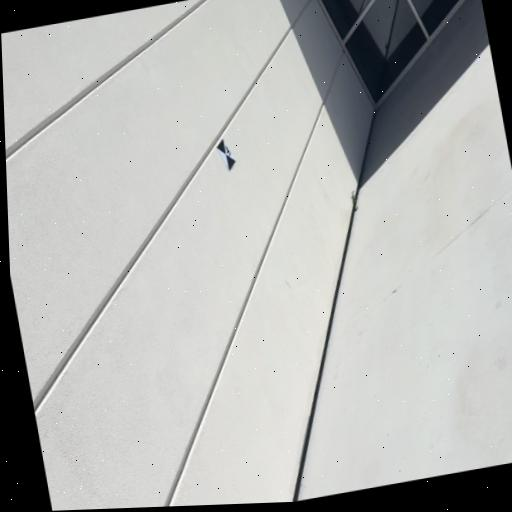target4: (218, 138, 236, 170)
